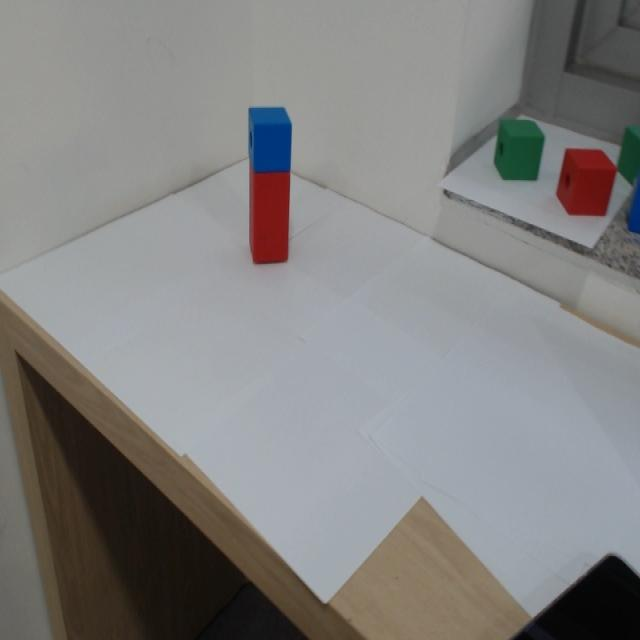cube: (233, 91, 303, 172)
